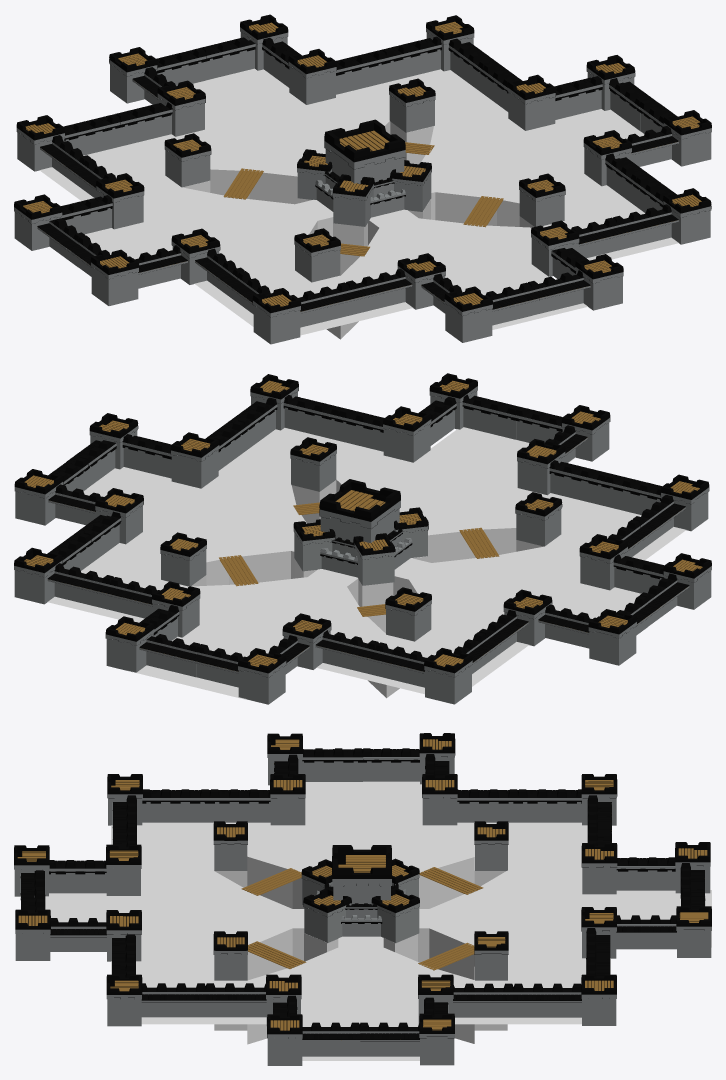
Rendered from med_map_8corners.fbx.
The picture shows the model from 3 angles, top to bottom: view 1: azimuth 30°, elevation 25°; view 2: azimuth 150°, elevation 25°; view 3: azimuth 270°, elevation 25°; orthographic projection.
Visible parts, largest first — view 1: Plane, Wallhub.028|Top|Dupli|1, PaintableWalls, Wallhub.020|PaintableWalls|Dupli|2, Wallhub.019|PaintableWalls|Dupli|2, Wallhub.015|PaintableWalls|Dupli|2, Wallhub.017|PaintableWalls|Dupli|2, Wallhub.028|PaintableWalls|Dupli|2, Wallhub.009|PaintableWalls|Dupli|2, Wallhub.016|PaintableWalls|Dupli|2, Wallhub.008|PaintableWalls|Dupli|2, Wallhub.012|PaintableWalls|Dupli|2 (+85 smaller); view 2: Plane, Wallhub.028|Top|Dupli|1, Wallhub.018|PaintableWalls|Dupli|2, Wallhub.025|PaintableWalls|Dupli|2, Wallhub.013|PaintableWalls|Dupli|2, Wallhub.011|PaintableWalls|Dupli|2, Wallhub.002|PaintableWalls|Dupli|2, Wallhub.028|PaintableWalls|Dupli|2, Wallhub.012|PaintableWalls|Dupli|2, Wallhub.009|PaintableWalls|Dupli|2, Wallhub.008|PaintableWalls|Dupli|2, Wallhub.016|PaintableWalls|Dupli|2 (+82 smaller); view 3: Plane, Wallhub.028|Top|Dupli|1, Paintable, Wall.005|Paintable|Dupli|, Wall.003|Paintable|Dupli|, Wall|Paintable|Dupli|, Wall.031|Paintable|Dupli|, Wall.020|Paintable|Dupli|, Wall.022|Paintable|Dupli|, Wall.016|Paintable|Dupli|, Wallhub.005|PaintableWalls|Dupli|2, Wallhub.006|PaintableWalls|Dupli|2 (+71 smaller).
Boxes of the visible parts, x1,y1,x2,y2 form: Plane: (39,68,678,339); Wallhub.028|Top|Dupli|1: (324,119,405,169); PaintableWalls: (253,305,300,344); Wallhub.020|PaintableWalls|Dupli|2: (445,304,492,342); Wallhub.019|PaintableWalls|Dupli|2: (91,267,138,305); Wallhub.015|PaintableWalls|Dupli|2: (508,92,555,130); Wallhub.017|PaintableWalls|Dupli|2: (289,66,335,104); Wallhub.028|PaintableWalls|Dupli|2: (325,149,404,183); Wallhub.009|PaintableWalls|Dupli|2: (295,245,340,282); Wallhub.016|PaintableWalls|Dupli|2: (389,95,434,132); Wallhub.008|PaintableWalls|Dupli|2: (165,150,210,187); Wallhub.012|PaintableWalls|Dupli|2: (519,190,564,226); Plane: (47,427,685,699); Wallhub.028|Top|Dupli|1: (319,479,400,528); Wallhub.018|PaintableWalls|Dupli|2: (589,626,636,665); Wallhub.025|PaintableWalls|Dupli|2: (238,665,285,704); Wallhub.013|PaintableWalls|Dupli|2: (171,450,218,488); Wallhub.011|PaintableWalls|Dupli|2: (383,424,430,462); Wallhub.002|PaintableWalls|Dupli|2: (425,665,471,704); Wallhub.028|PaintableWalls|Dupli|2: (320,508,399,542); Wallhub.012|PaintableWalls|Dupli|2: (291,454,336,491); Wallhub.009|PaintableWalls|Dupli|2: (516,509,561,546); Wallhub.008|PaintableWalls|Dupli|2: (386,604,431,641); Wallhub.016|PaintableWalls|Dupli|2: (161,549,206,586); Plane: (45,781,711,1060); Wallhub.028|Top|Dupli|1: (332,845,391,886); Paintable: (142,802,209,822); Wall.005|Paintable|Dupli|: (517,802,581,822); Wall.003|Paintable|Dupli|: (457,802,518,822); Wall|Paintable|Dupli|: (209,802,270,822); Wall.031|Paintable|Dupli|: (616,870,675,890); Wall.020|Paintable|Dupli|: (302,761,362,781); Wall.022|Paintable|Dupli|: (49,873,106,893); Wall.016|Paintable|Dupli|: (363,761,419,781); Wallhub.005|PaintableWalls|Dupli|2: (377,907,419,943); Wallhub.006|PaintableWalls|Dupli|2: (304,907,345,943).
Bounding box in the file's own units: 805 × 4053 × 4069.
